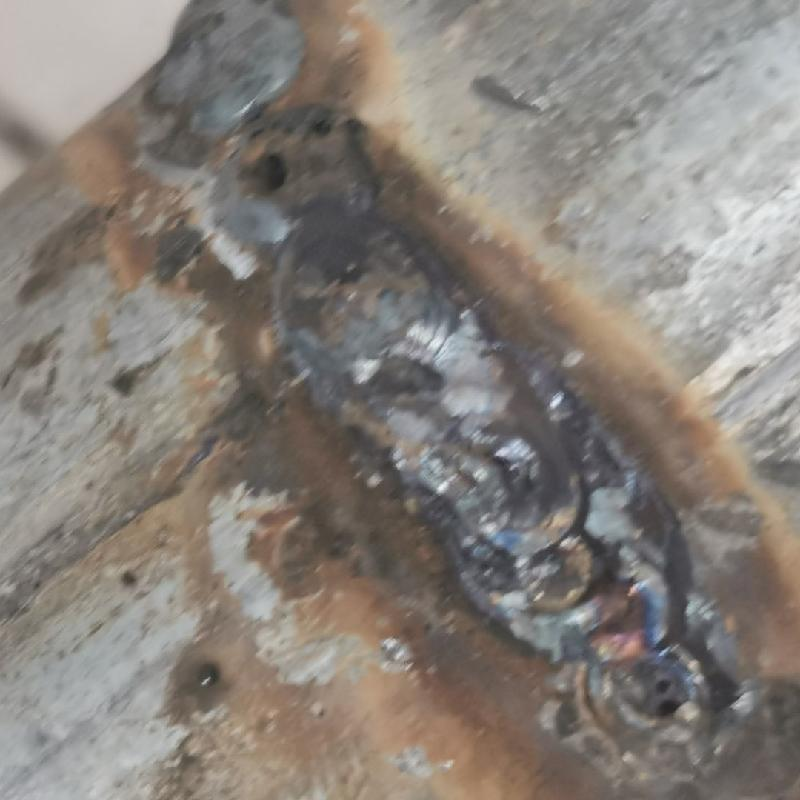Surface_pores: (218, 111, 348, 195)
crater: (448, 425, 711, 746)
